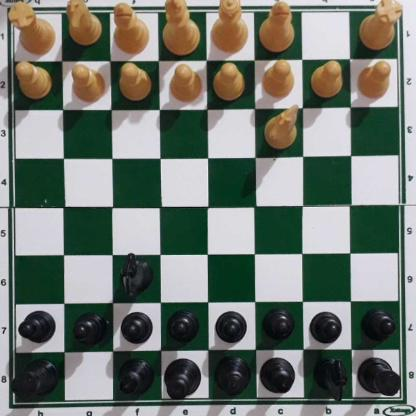black-bishop: (116, 360, 156, 400), (259, 360, 298, 397)
black-king: (162, 358, 203, 399)
black-knight: (121, 254, 154, 299), (315, 360, 348, 404)
black-pawn: (20, 311, 56, 347), (121, 312, 153, 348), (311, 312, 343, 347), (217, 312, 248, 348), (362, 312, 396, 344), (74, 314, 106, 348), (169, 312, 200, 347), (264, 311, 295, 345)
black-queen: (214, 359, 252, 399)
black-rook: (15, 361, 59, 406), (358, 359, 404, 400)
white-bishop: (113, 3, 151, 55), (261, 3, 295, 55)
white-king: (164, 1, 201, 55)
white-knight: (67, 2, 103, 49), (266, 108, 301, 153)
white-pawn: (70, 65, 107, 105), (358, 62, 394, 102), (169, 65, 204, 105), (16, 65, 52, 102), (311, 63, 345, 101), (118, 65, 152, 103), (263, 61, 296, 99), (215, 65, 247, 103)
white-queen: (211, 0, 250, 55)
white-rook: (8, 0, 55, 60), (359, 0, 405, 52)
